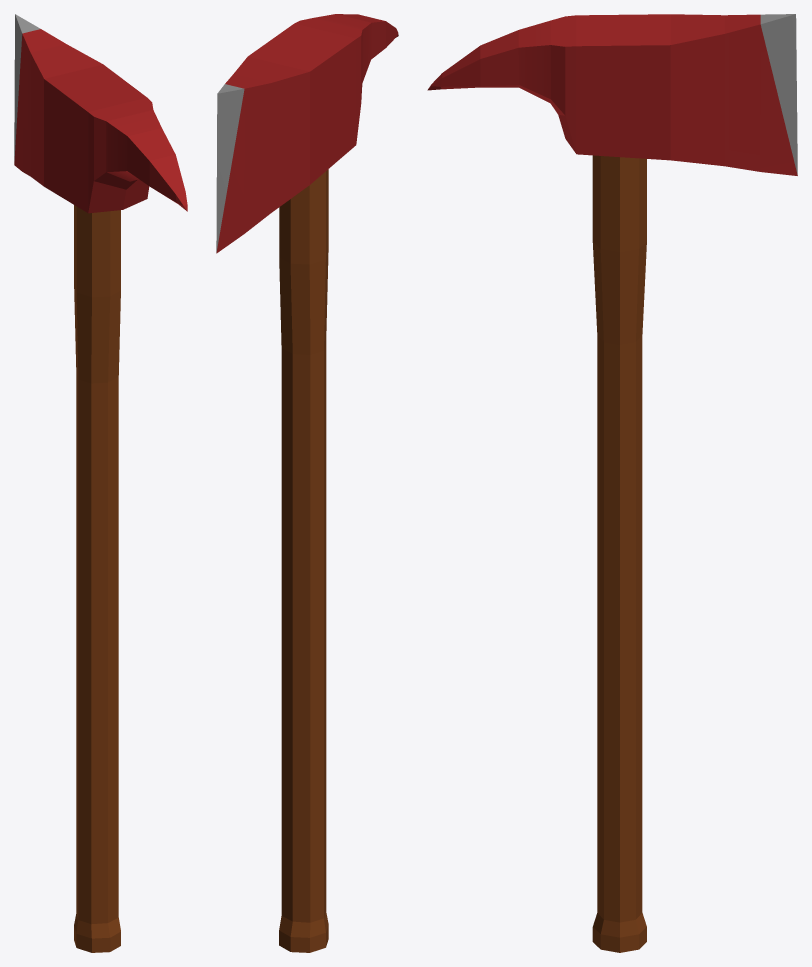
File: axe.fbx
3 views of the same model, side by side, from view 1: azimuth 30°, elevation 25°; view 2: azimuth 150°, elevation 25°; view 3: azimuth 270°, elevation 25° (orthographic). The views are drawn at different scales.
Visible parts, largest first — view 1: Cylinder; view 2: Cylinder; view 3: Cylinder.
Boxes of the visible parts, bbox=[...] form: Cylinder: bbox=[14, 14, 187, 952]; Cylinder: bbox=[216, 14, 398, 952]; Cylinder: bbox=[427, 14, 797, 952].
Bounding box in the file's own units: 9.2 × 129 × 46.64.
